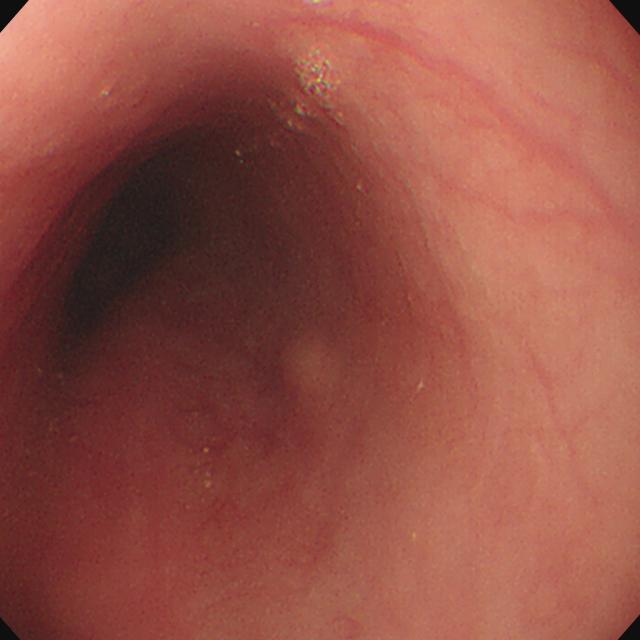E: (64, 199, 181, 344)
J: (203, 471, 214, 492)
T: (295, 47, 343, 119)
